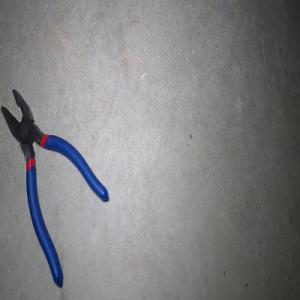Pliers: (0, 88, 108, 287)
